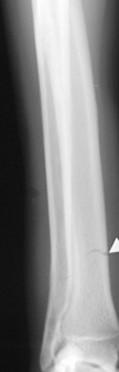fractured: (80, 246, 113, 264)
